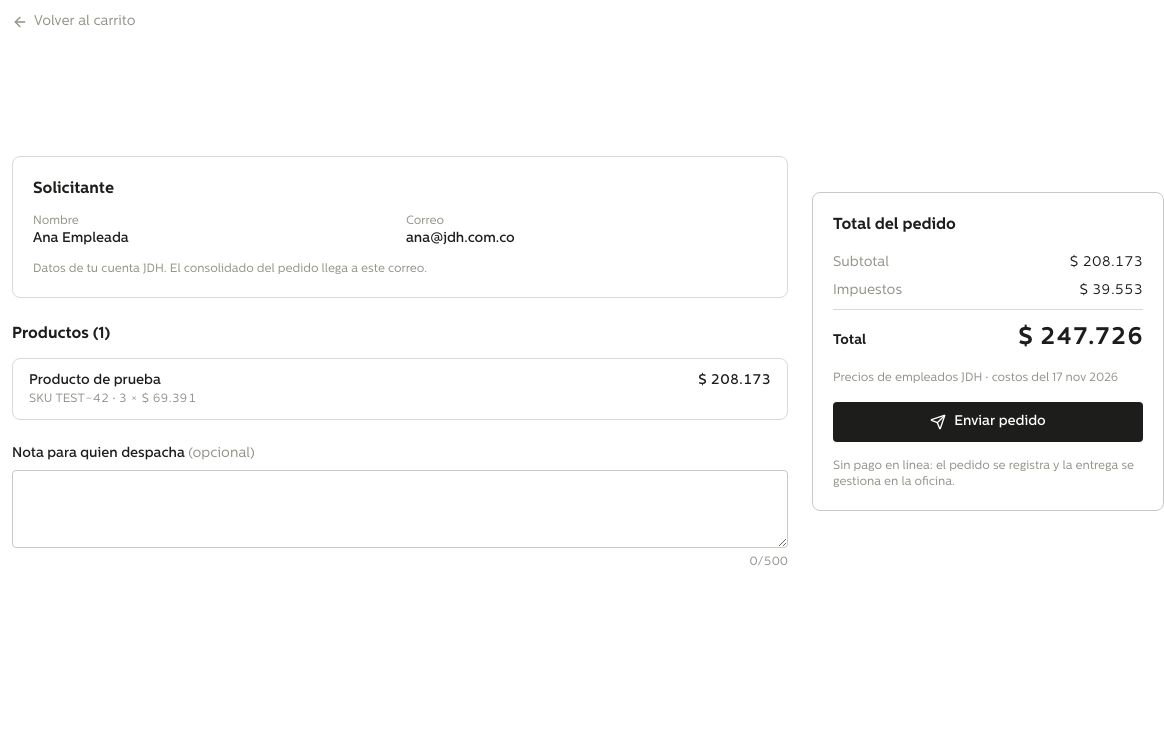
Test: finalizar pedido › 409 NO_DISPONIBLES: vuelve al carrito, sin pedir confirmar precios
Expected: the text "Ana Empleada" is shown, top-left (33, 231), bottom-right (129, 246)
What coordinates should you click on to do the following:
click the button "Enviar pedido"
I would click on:
 (988, 422)
Its box is top-left (833, 402), bottom-right (1143, 442).
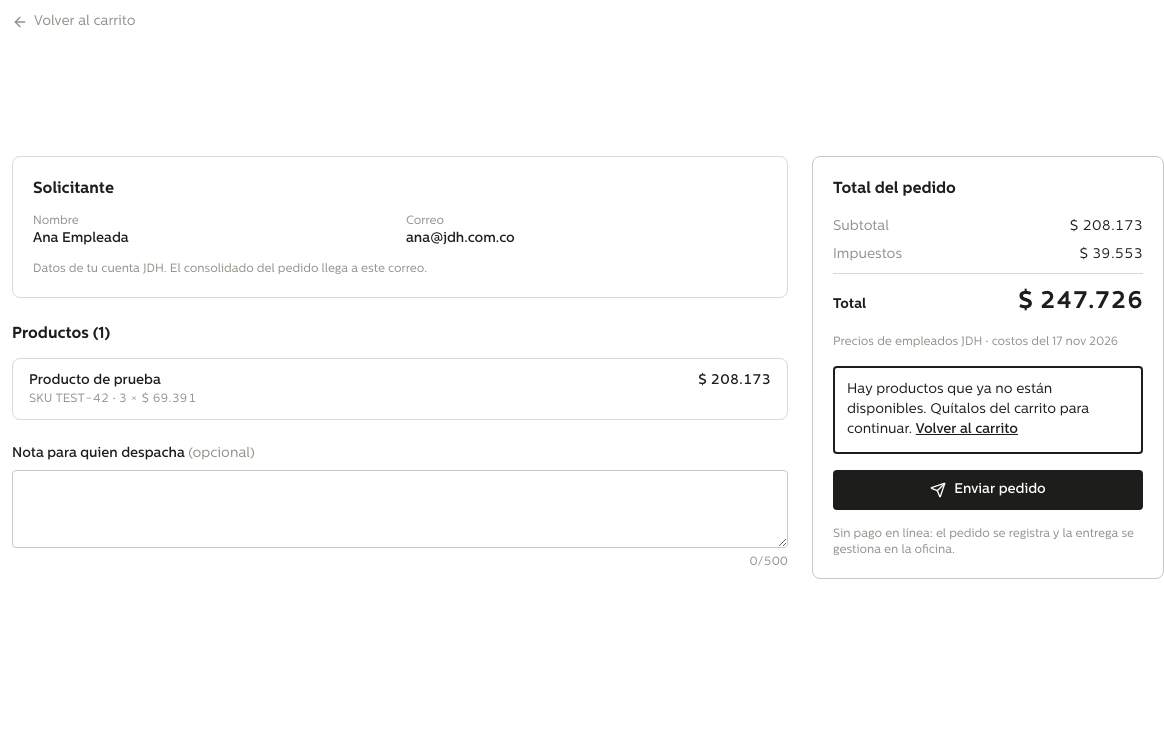
Result: the message shows "ya no están disponibles" at top-left (847, 382), bottom-right (1089, 437)
Result: the link "Volver al carrito" below "Precios de empleados JDH · costos del" is shown at top-left (916, 422), bottom-right (1018, 437)
